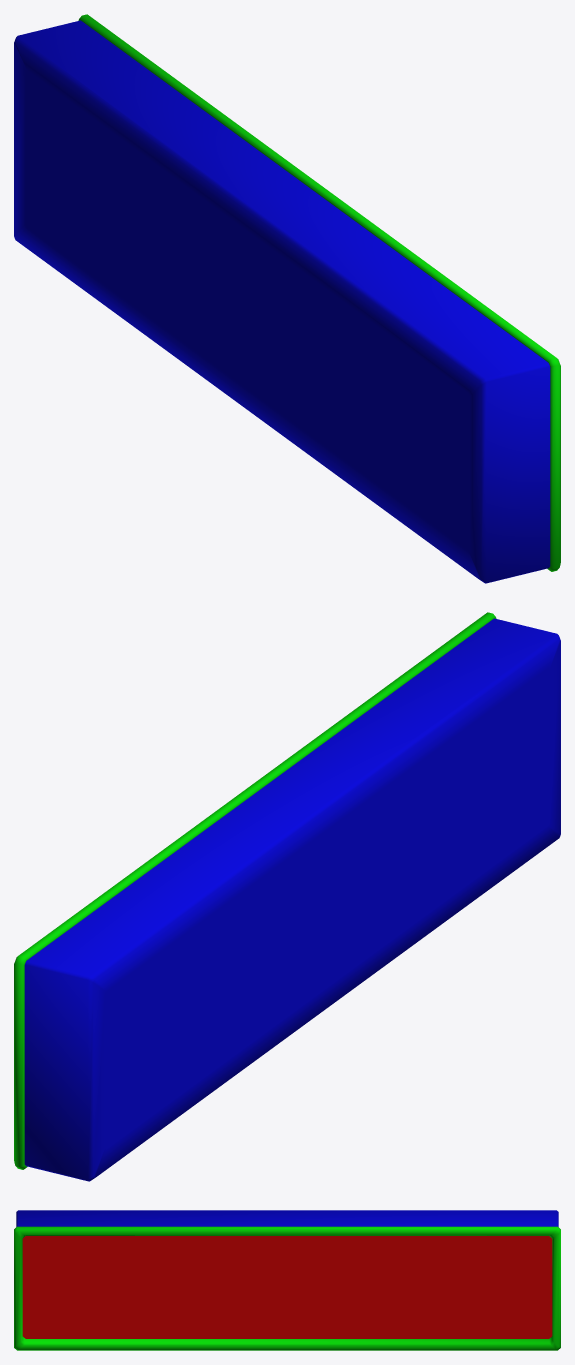
File: sign_low.fbx
3 views of the same model, one above another, from view 1: azimuth 30°, elevation 25°; view 2: azimuth 150°, elevation 25°; view 3: azimuth 270°, elevation 25° (orthographic). The views are drawn at different scales.
Visible parts, largest first — view 1: sign_low; view 2: sign_low; view 3: sign_low.
Boxes of the visible parts, box(x1,y1,x2,y2) form: sign_low: box(14, 14, 560, 583); sign_low: box(14, 612, 560, 1181); sign_low: box(14, 1210, 560, 1350).
Bounding box in the file's own units: 57.27 × 150 × 607.
